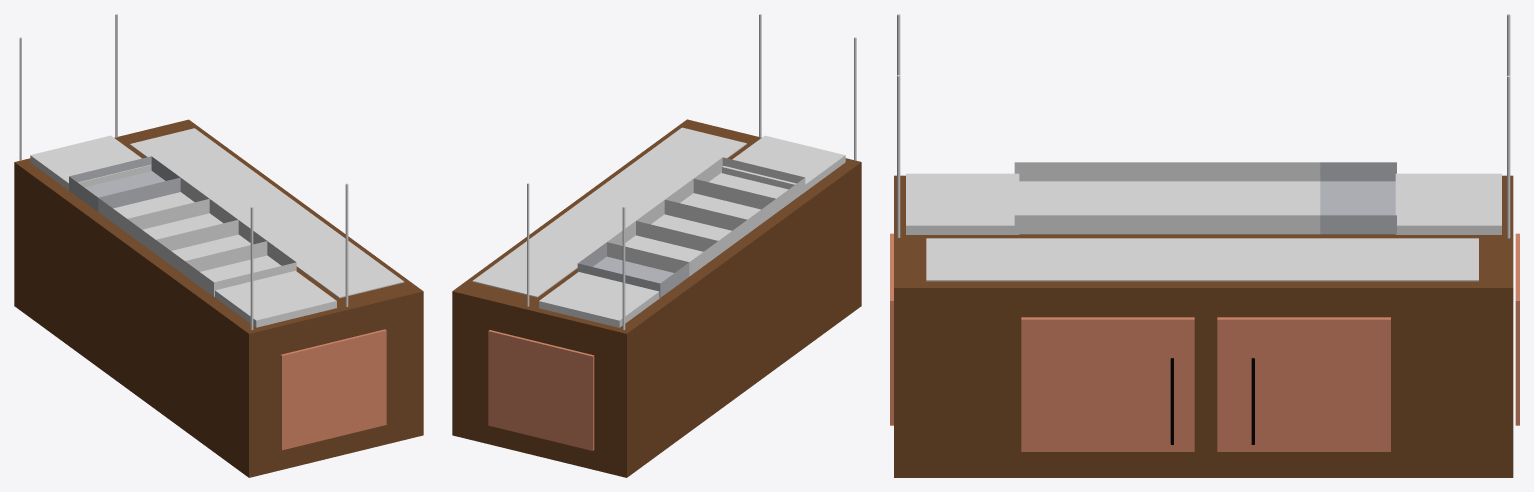
The model's file is vitrina.fbx.
The picture shows the model from 3 angles, left to right: view 1: azimuth 30°, elevation 25°; view 2: azimuth 150°, elevation 25°; view 3: azimuth 270°, elevation 25°; orthographic projection. The views are drawn at different scales.
Visible parts, largest first — view 1: Margine2; view 2: Margine2; view 3: Margine2.
Boxes of the visible parts, bbox=[...] form: Margine2: bbox=[14, 14, 423, 477]; Margine2: bbox=[452, 14, 861, 477]; Margine2: bbox=[890, 14, 1519, 477].
Bounding box in the file's own units: 419 × 589 × 949.
